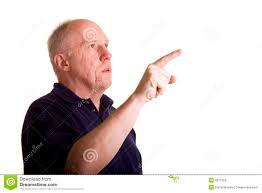hand: (127, 43, 191, 105)
